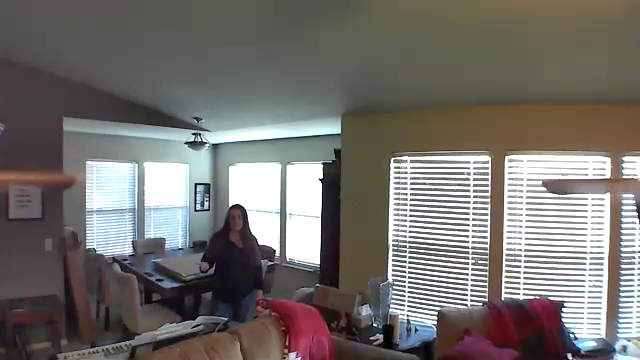land: (187, 257, 217, 278)
